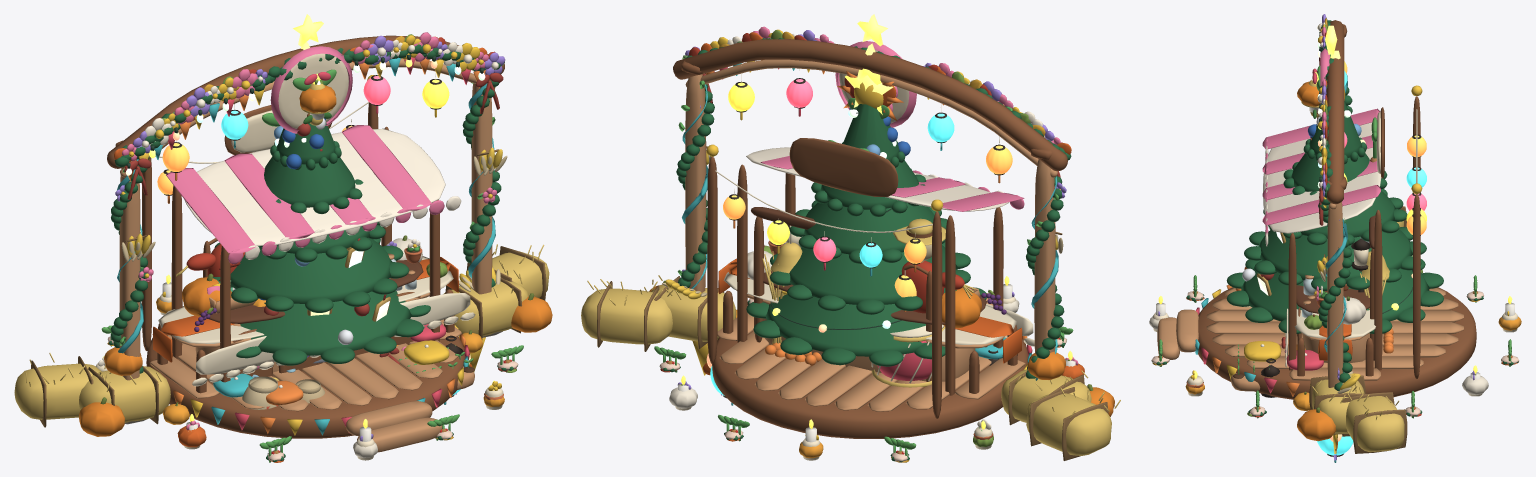
File: granja_festivales.glb
The picture shows the model from 3 angles, left to right: view 1: azimuth 30°, elevation 25°; view 2: azimuth 150°, elevation 25°; view 3: azimuth 270°, elevation 25°; orthographic projection. The views are drawn at different scales.
Visible parts, largest first — view 1: piso pino 0, escalón 0, arco paca -1 (×2), festón 1, toldo raya 0, marco campana -1, guirnalda 00, mantel, arco poste -1, letrero marco, arco calabaza -1, emblema (+28 smaller); view 2: piso pino 0, marco campana -1, arco paca -1 (×3), letrero marco, escalón 0, arco viga, arco poste -1, guirnalda 00, arco viga clara, toldo raya 0, festón 1, mantel (+20 smaller); view 3: piso pino 0, escalón 0, marco campana -1, arco paca -1 (×2), festón 1, toldo raya 0, letrero marco, arco viga, arco poste -1, guirnalda 00, arco calabaza -1, bandeja plántulas (+16 smaller).
Part boxes in pixels (x1,y1,x2,y2): piso pino 0: (213, 123, 430, 365); escalón 0: (149, 319, 461, 452); arco paca -1 (×2): (14, 251, 549, 422); festón 1: (184, 128, 461, 259); toldo raya 0: (166, 125, 431, 253); marco campana -1: (141, 102, 464, 438); guirnalda 00: (111, 44, 501, 373); mantel: (158, 256, 475, 386); arco poste -1: (119, 73, 492, 380); letrero marco: (171, 105, 440, 382); arco calabaza -1: (79, 85, 552, 436); emblema: (278, 53, 348, 128); piso pino 0: (746, 104, 986, 366); marco campana -1: (707, 156, 1027, 438); arco paca -1 (×3): (581, 218, 1111, 455); letrero marco: (737, 138, 1003, 395); escalón 0: (717, 293, 1025, 411); arco viga: (673, 39, 1067, 171); arco poste -1: (685, 74, 1055, 353); guirnalda 00: (676, 38, 1071, 378); arco viga clara: (685, 59, 1057, 177); toldo raya 0: (760, 156, 1024, 211); festón 1: (746, 147, 1008, 211); mantel: (723, 272, 1034, 346); piso pino 0: (1226, 101, 1443, 333); escalón 0: (1157, 287, 1463, 380); marco campana -1: (1198, 96, 1476, 399); arco paca -1 (×2): (1312, 221, 1404, 452); festón 1: (1263, 122, 1381, 294); toldo raya 0: (1262, 108, 1380, 225); letrero marco: (1288, 107, 1384, 370); arco viga: (1326, 20, 1344, 204); arco poste -1: (1327, 201, 1343, 387); guirnalda 00: (1318, 20, 1352, 390); arco calabaza -1: (1297, 81, 1336, 441); bandeja plántulas: (1231, 275, 1369, 391).
Bounding box in the file's own units: 6.3 × 4.85 × 4.34.
